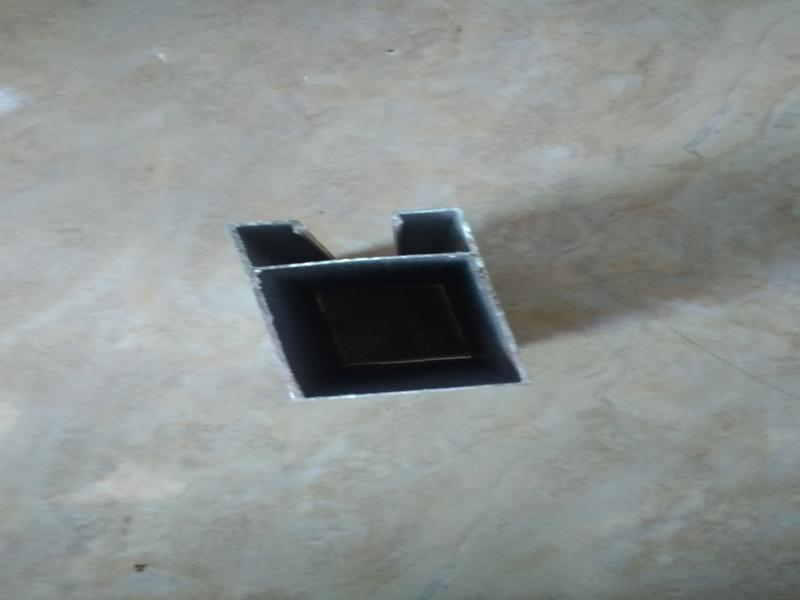Aluminium_1: (206, 188, 563, 421)
